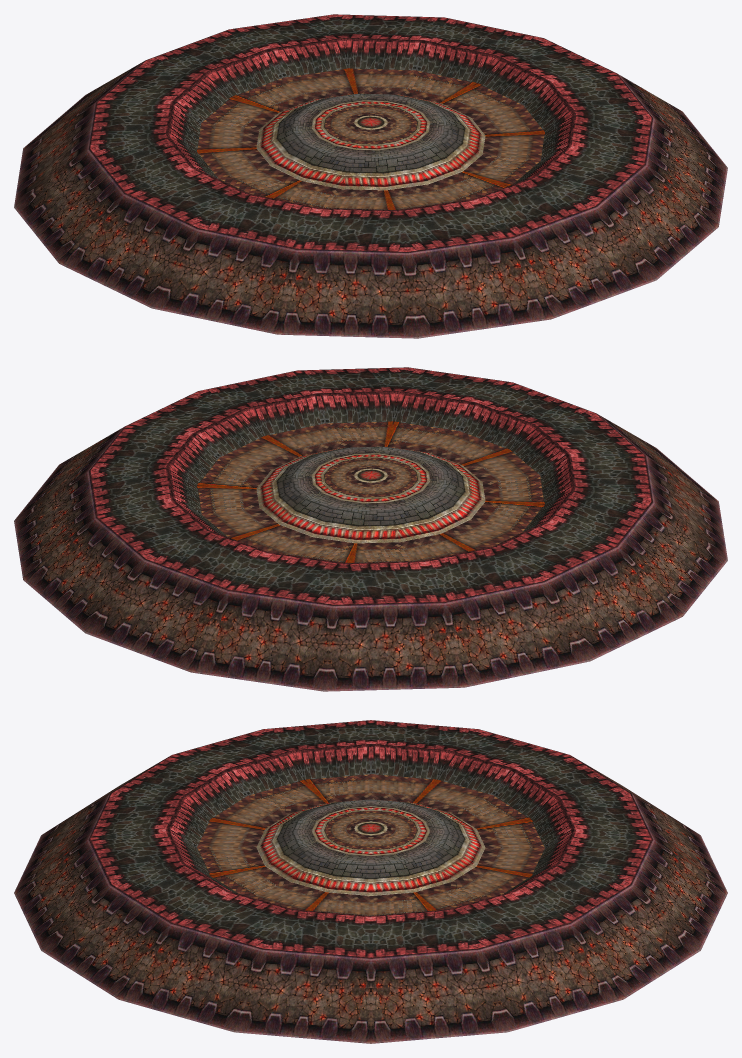
Rendered from arena_01.FBX.
3 renders of one model, top to bottom at view 1: azimuth 30°, elevation 25°; view 2: azimuth 150°, elevation 25°; view 3: azimuth 270°, elevation 25°, orthographic.
Parts seen in each view (by area): view 1: arena_01; view 2: arena_01; view 3: arena_01.
Part boxes in pixels (x1,y1,x2,y2): arena_01: [14, 14, 727, 338]; arena_01: [14, 367, 727, 691]; arena_01: [14, 720, 727, 1043].
Bounding box in the file's own units: 11.37 × 1.15 × 11.37.
